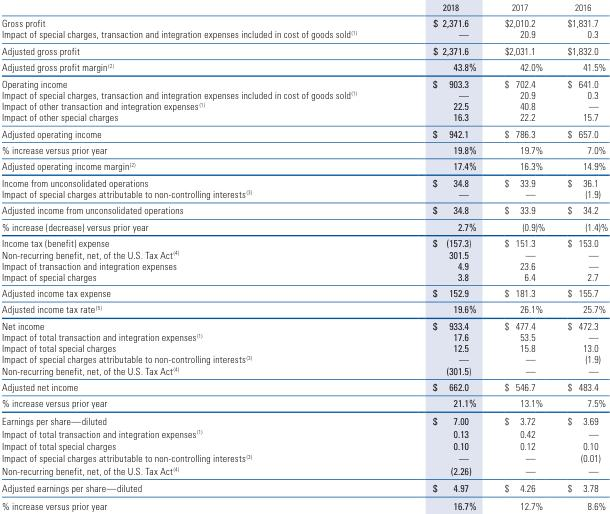table: (1, 0, 607, 511)
table column: (1, 0, 393, 511), (393, 0, 489, 511), (489, 0, 555, 511), (555, 0, 607, 511)
table column header: (1, 0, 607, 14)
table row: (1, 478, 607, 496), (1, 41, 607, 58), (1, 124, 607, 141), (1, 217, 607, 234), (1, 300, 607, 317), (1, 394, 607, 411), (1, 58, 607, 74), (1, 141, 607, 157), (1, 157, 607, 173), (1, 201, 607, 217), (1, 284, 607, 300), (1, 378, 607, 394), (1, 411, 607, 426), (1, 463, 607, 478), (1, 496, 607, 511), (1, 0, 607, 14), (1, 14, 607, 28), (1, 74, 607, 88), (1, 110, 607, 124), (1, 173, 607, 187), (1, 187, 607, 201), (1, 234, 607, 248), (1, 270, 607, 284), (1, 317, 607, 331), (1, 364, 607, 378), (1, 28, 607, 41), (1, 426, 607, 439), (1, 439, 607, 451), (1, 451, 607, 463), (1, 88, 607, 99), (1, 99, 607, 110), (1, 248, 607, 259), (1, 259, 607, 270), (1, 331, 607, 342), (1, 342, 607, 353), (1, 353, 607, 364)
